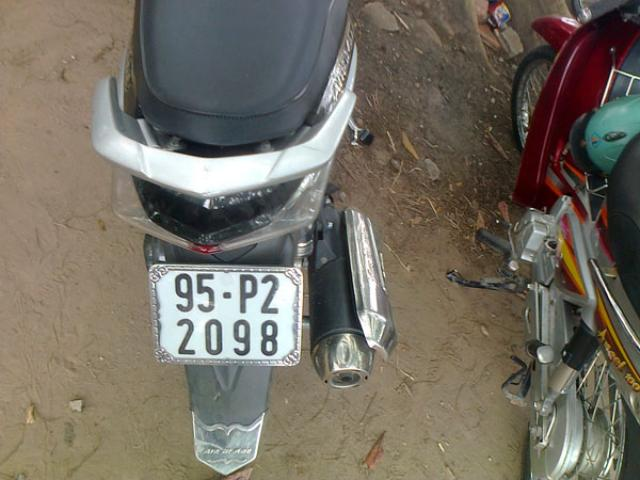plate: (156, 264, 302, 364)
